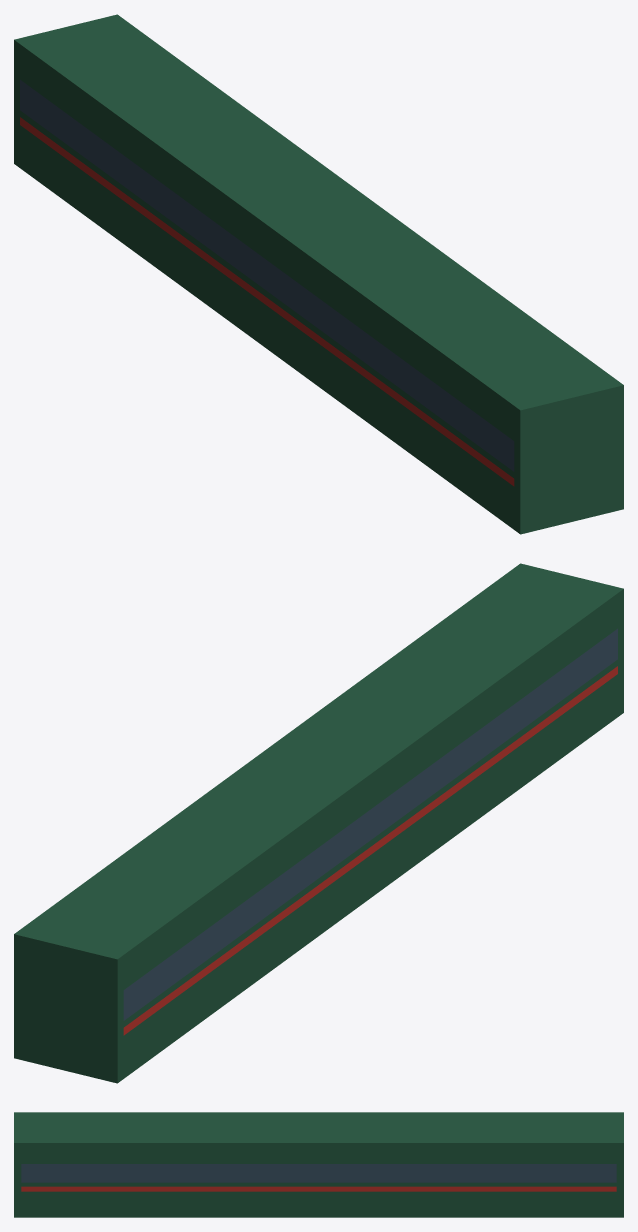
File: middle_3_far.fbx
3 views of the same model, one above another, from view 1: azimuth 30°, elevation 25°; view 2: azimuth 150°, elevation 25°; view 3: azimuth 270°, elevation 25° (orthographic). The views are drawn at different scales.
Visible parts, largest first — view 1: 21_middle_3_far; view 2: 21_middle_3_far; view 3: 21_middle_3_far.
Boxes of the visible parts, box(x1,y1,x2,y2) form: 21_middle_3_far: box(14, 14, 623, 534); 21_middle_3_far: box(14, 563, 623, 1083); 21_middle_3_far: box(14, 1112, 623, 1217).
Bounding box in the file's own units: 2.96 × 3.38 × 25.
